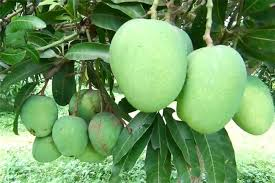mango: (175, 43, 254, 134), (107, 20, 186, 105)
